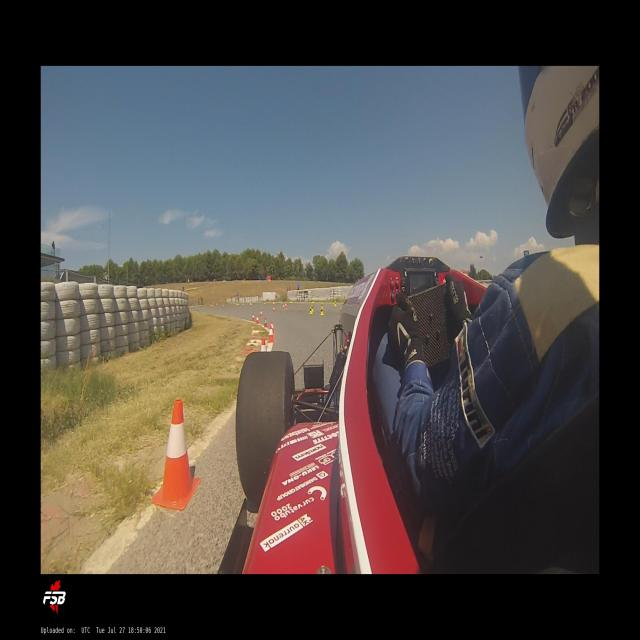orange_cone: (150, 398, 200, 511), (260, 337, 267, 353), (268, 326, 274, 342), (270, 321, 274, 334), (264, 317, 268, 327), (256, 315, 259, 324), (252, 314, 255, 322), (260, 310, 262, 316), (273, 307, 274, 311)
yellow_cone: (320, 308, 324, 316), (310, 306, 312, 314), (311, 305, 313, 311), (321, 302, 323, 308)
